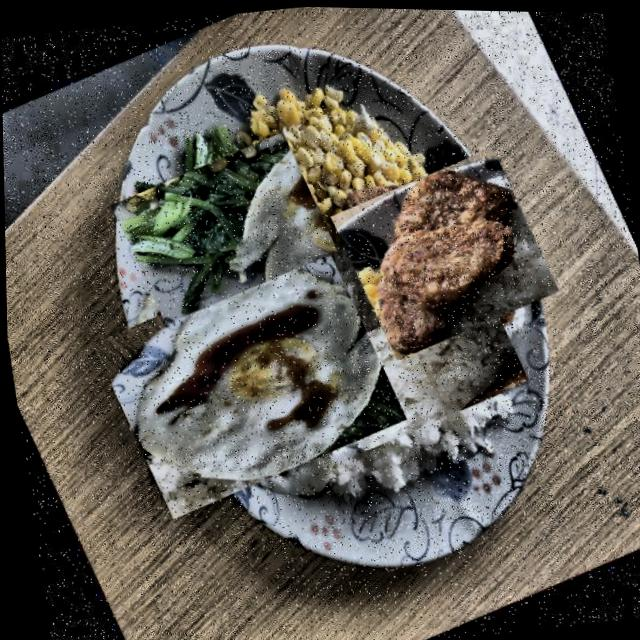Food: (88, 220, 407, 538), (324, 132, 562, 370), (291, 257, 521, 485), (108, 113, 335, 340)
